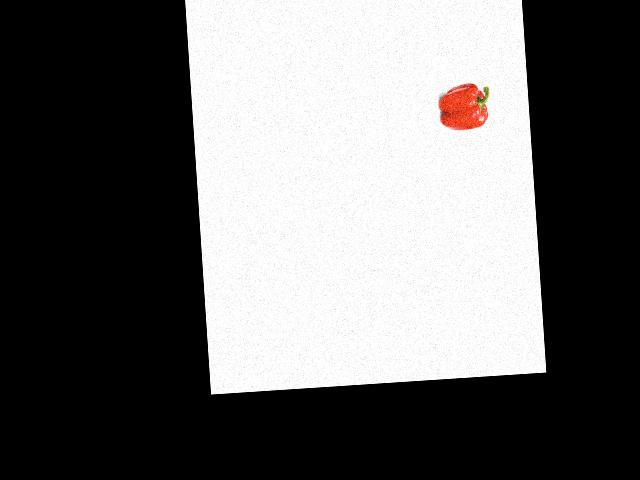bell_pepper: (436, 81, 492, 132)
